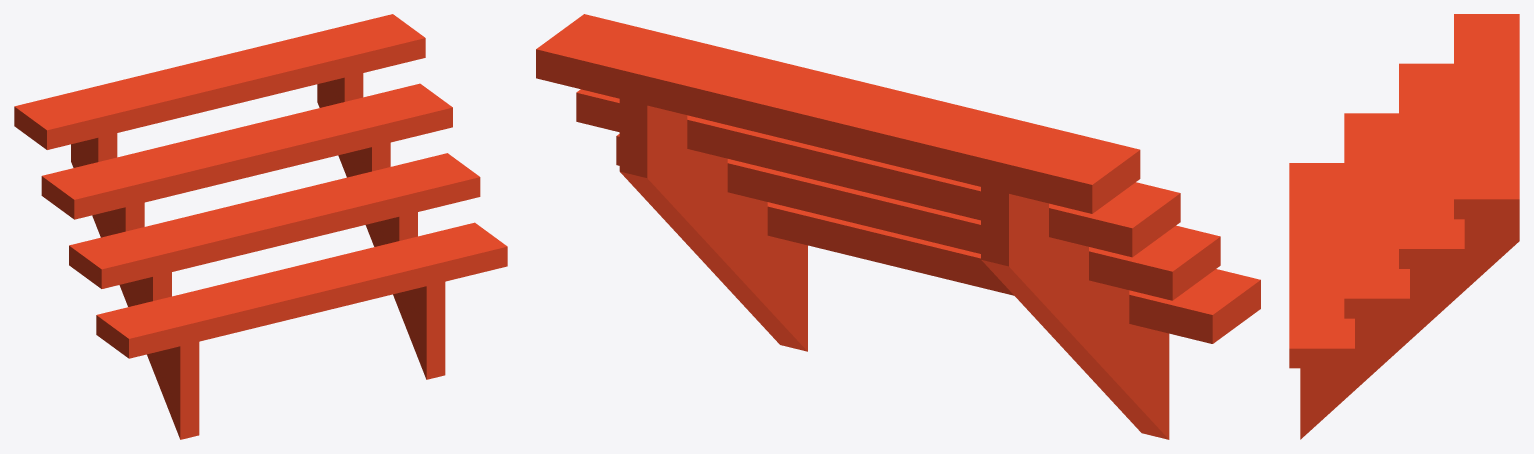
The model's file is SM_Stairs_Wood_Regular_2m_Middle.fbx.
3 views of the same model, side by side, from view 1: azimuth 30°, elevation 25°; view 2: azimuth 150°, elevation 25°; view 3: azimuth 270°, elevation 25° (orthographic). The views are drawn at different scales.
Visible parts, largest first — view 1: stairs-wood-regular-2m-middle; view 2: stairs-wood-regular-2m-middle; view 3: stairs-wood-regular-2m-middle.
Part boxes in pixels (x1,y1,x2,y2): stairs-wood-regular-2m-middle: (14,14,507,439); stairs-wood-regular-2m-middle: (536,14,1260,439); stairs-wood-regular-2m-middle: (1289,14,1519,439).
Bounding box in the file's own units: 2 × 1.35 × 1.05.
